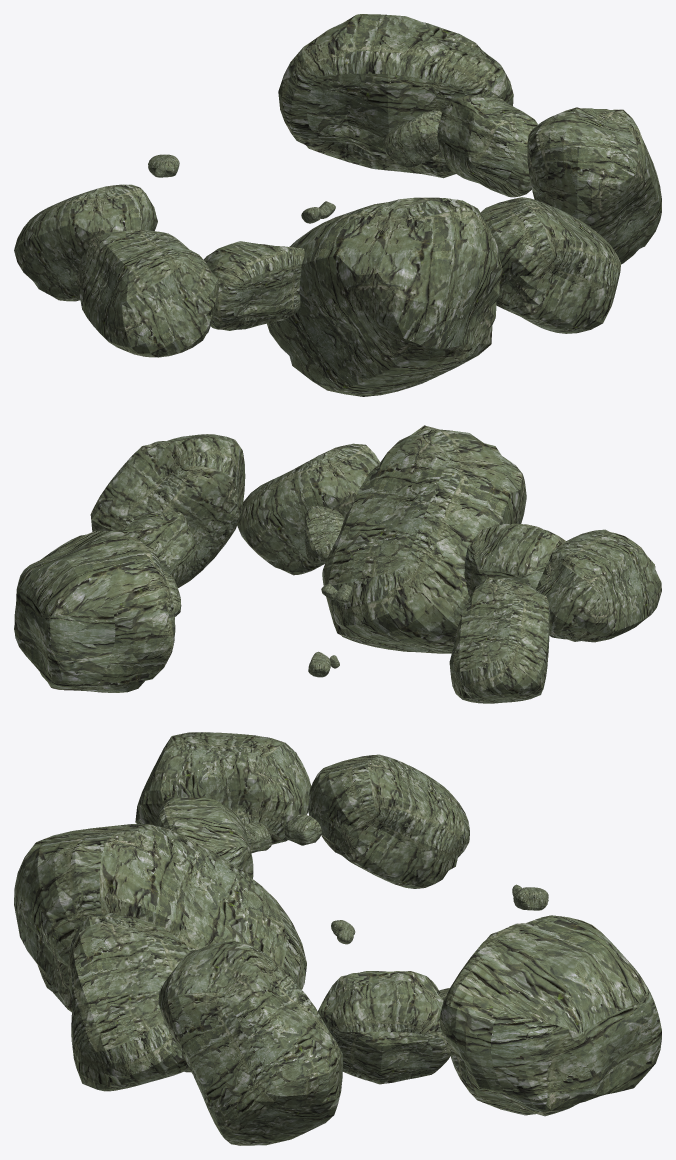
File: rock_formation.obj
3 views of the same model, one above another, from view 1: azimuth 30°, elevation 25°; view 2: azimuth 150°, elevation 25°; view 3: azimuth 270°, elevation 25° (orthographic). The views are drawn at different scales.
Visible parts, largest first — view 1: Cube.015_Cube.016; view 2: Cube.015_Cube.016; view 3: Cube.015_Cube.016.
Boxes of the visible parts, x1=… form: Cube.015_Cube.016: x1=14, y1=14, x2=661, y2=396; Cube.015_Cube.016: x1=14, y1=425, x2=661, y2=703; Cube.015_Cube.016: x1=14, y1=732, x2=661, y2=1145.
Bounding box in the file's own units: 57.3 × 20.13 × 51.45.
